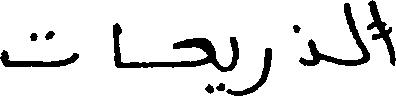X: (0, 26, 77, 71), (172, 33, 215, 95), (370, 0, 395, 70), (345, 0, 368, 70), (241, 43, 271, 95), (300, 23, 319, 70), (231, 32, 239, 95), (113, 18, 120, 72)
